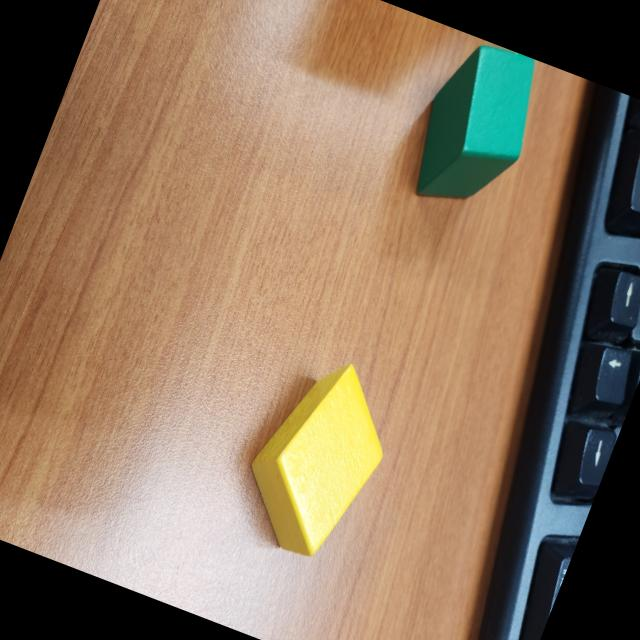green: (416, 47, 534, 200)
yellow: (249, 365, 382, 558)
